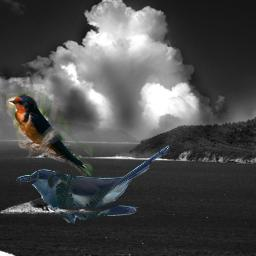Cuckoo: (16, 145, 174, 224)
Swallow: (6, 92, 93, 176)
